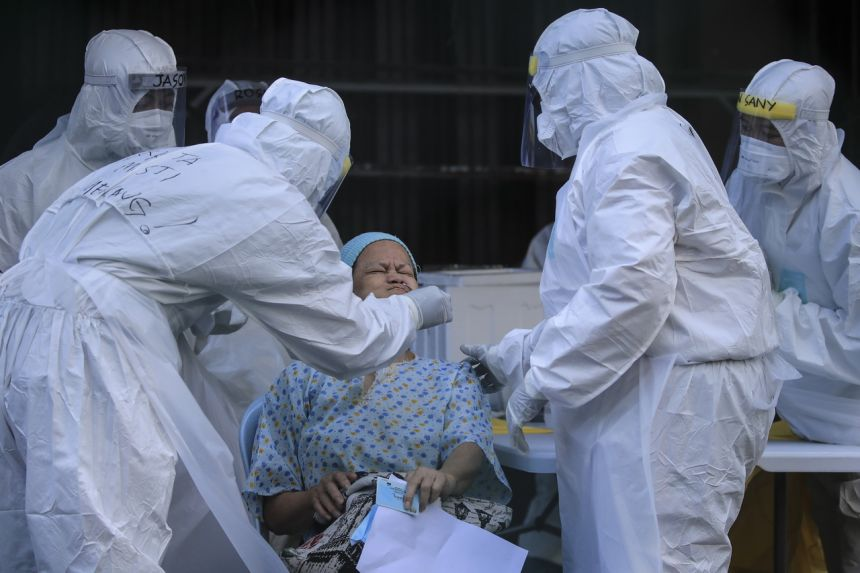Coverall: (1, 79, 400, 573), (491, 7, 782, 571), (1, 20, 219, 401), (710, 37, 860, 455)
Face_Shield: (87, 64, 197, 171), (517, 45, 602, 169), (733, 91, 799, 193), (300, 144, 357, 231)
Gloves: (499, 371, 539, 460), (404, 281, 465, 336), (452, 335, 506, 397)
with_mask: (737, 111, 793, 187), (127, 88, 175, 157), (528, 87, 570, 159)
without_mask: (354, 241, 422, 328)
